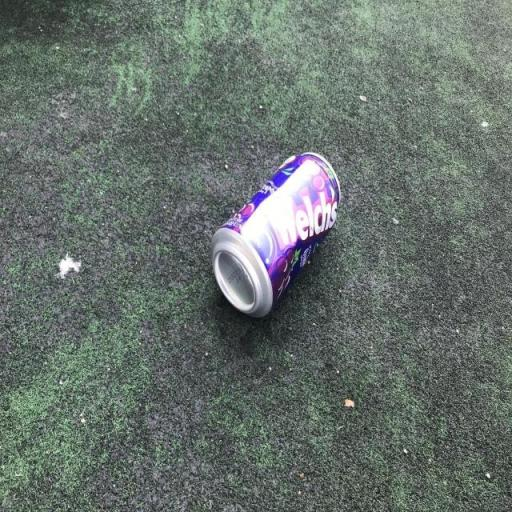metal: (208, 139, 346, 333)
